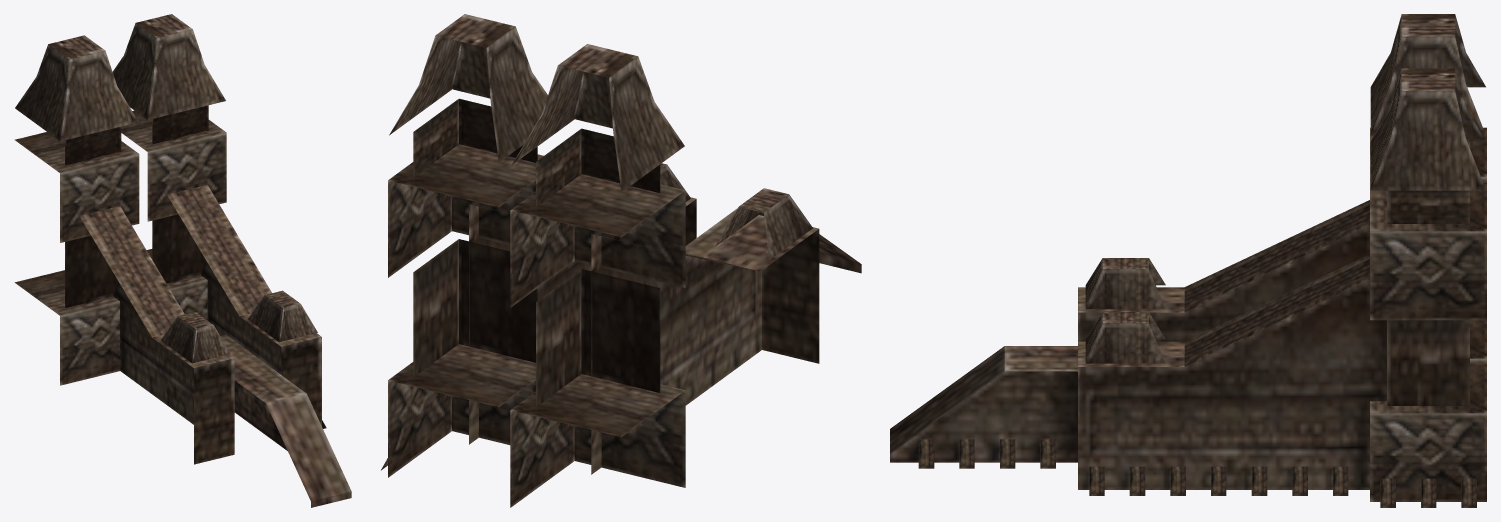
3 renders of one model, left to right at view 1: azimuth 30°, elevation 25°; view 2: azimuth 150°, elevation 25°; view 3: azimuth 270°, elevation 25°, orthographic. The views are drawn at different scales.
Visible parts, largest first — view 1: wj32; view 2: wj32; view 3: wj32.
Part boxes in pixels (<box>): wj32: <box>14,14,351,507</box>; wj32: <box>381,14,861,507</box>; wj32: <box>890,14,1486,507</box>.
Size of the model in its own units: 850 by 1441 by 1959.
